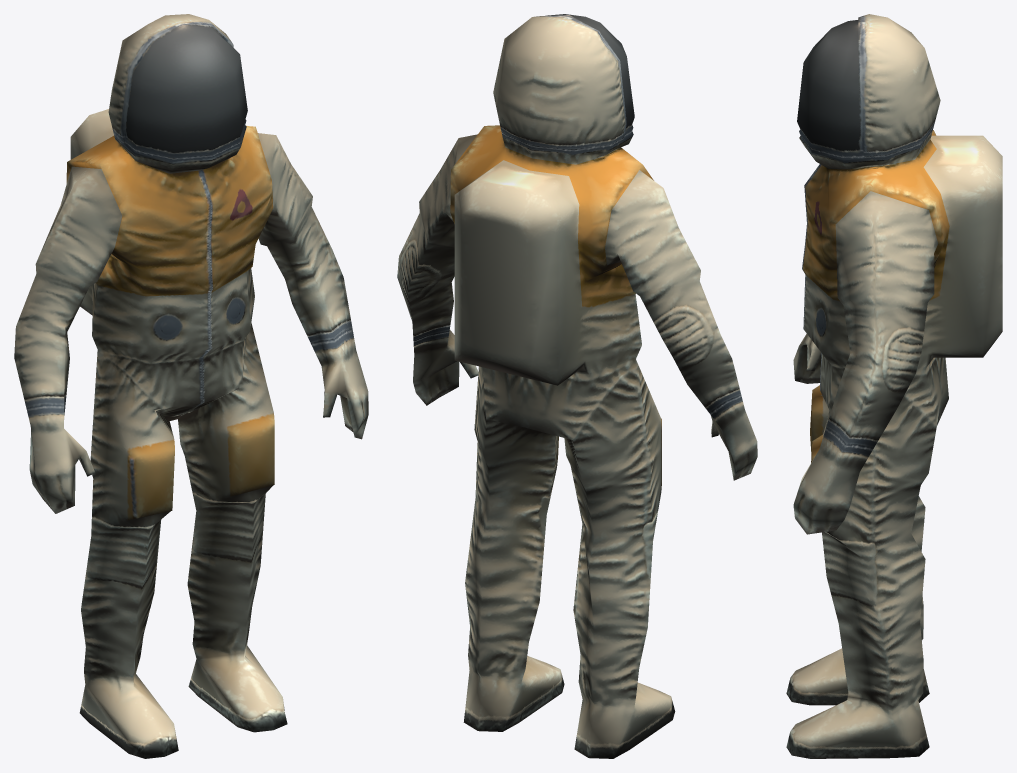
Rendered from low_poly_astronaut.glb.
The picture shows the model from 3 angles, left to right: view 1: azimuth 30°, elevation 25°; view 2: azimuth 150°, elevation 25°; view 3: azimuth 270°, elevation 25°; orthographic projection.
Visible parts, largest first — view 1: LOW_POLY_ASTRONAUGHT2; view 2: LOW_POLY_ASTRONAUGHT2; view 3: LOW_POLY_ASTRONAUGHT2.
Part boxes in pixels (left/top/right/bottom): LOW_POLY_ASTRONAUGHT2: left=14, top=14, right=368, bottom=758; LOW_POLY_ASTRONAUGHT2: left=397, top=14, right=757, bottom=758; LOW_POLY_ASTRONAUGHT2: left=786, top=14, right=1002, bottom=758.
Bounding box in the file's own units: 2.98 × 5.93 × 1.67.
1 material, 1 textured.
